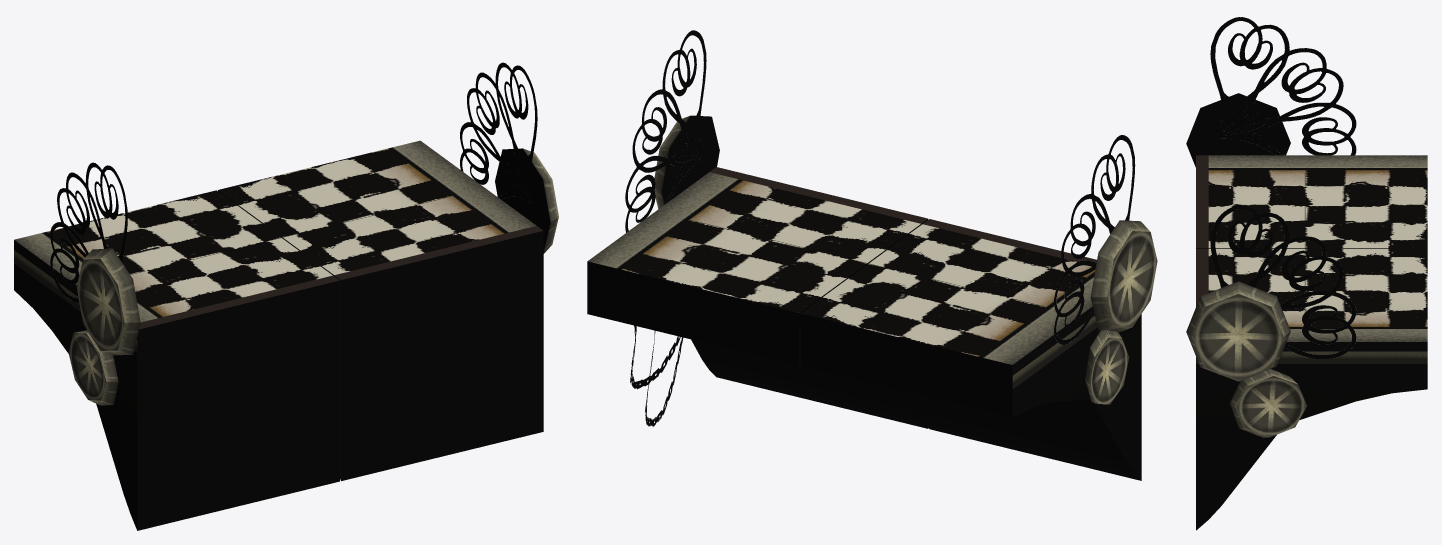
The model's file is HallwayEntry.fbx.
The picture shows the model from 3 angles, left to right: view 1: azimuth 30°, elevation 25°; view 2: azimuth 150°, elevation 25°; view 3: azimuth 270°, elevation 25°; orthographic projection. The views are drawn at different scales.
Parts seen in each view (by area): view 1: HallWayEntry; view 2: HallWayEntry; view 3: HallWayEntry.
Part boxes in pixels (box(x1,y1,x2,y2)): HallWayEntry: box(14, 62, 558, 530); HallWayEntry: box(587, 30, 1157, 480); HallWayEntry: box(1186, 17, 1427, 530).
Size of the model in its own units: 201 by 155 by 103.
